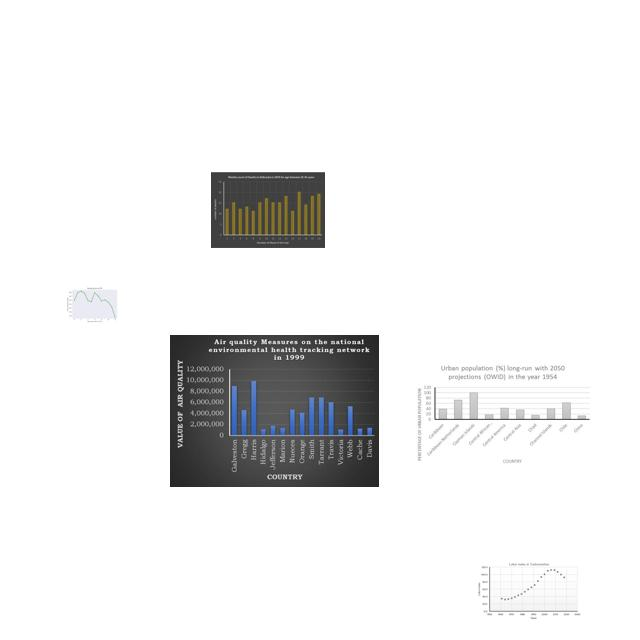Graph: (170, 335, 379, 487), (413, 363, 591, 466), (211, 172, 325, 248), (477, 562, 581, 620), (65, 282, 123, 326)
